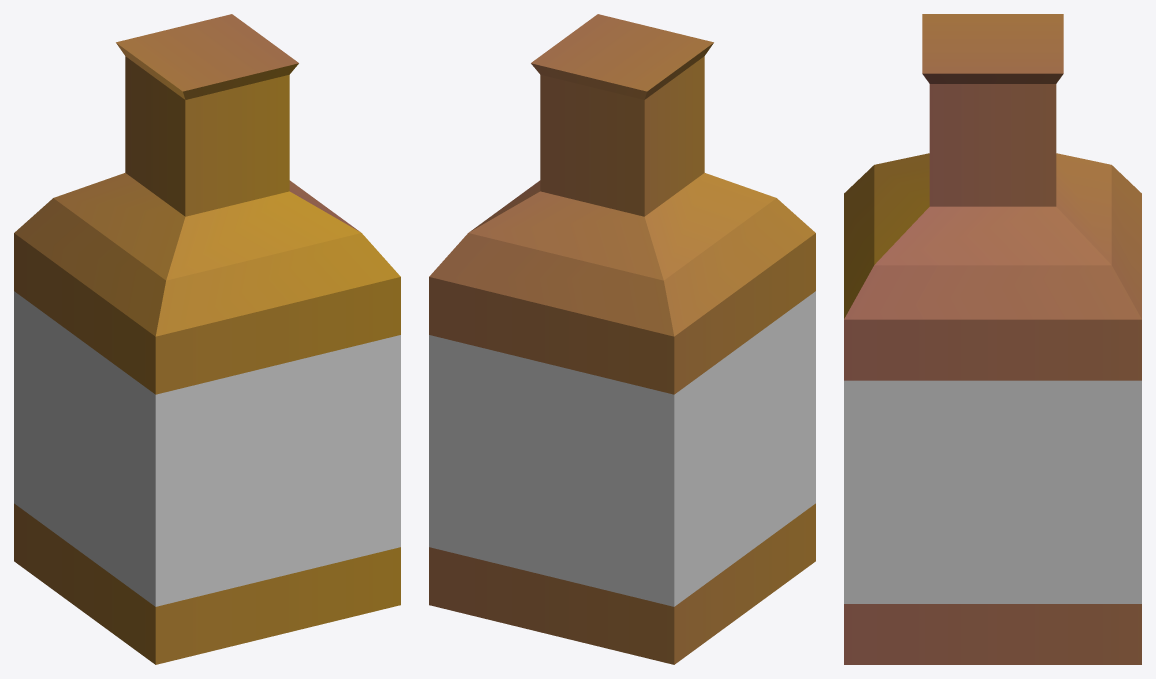
The model's file is B01_bouteille_2_b.fbx.
The picture shows the model from 3 angles, left to right: view 1: azimuth 30°, elevation 25°; view 2: azimuth 150°, elevation 25°; view 3: azimuth 270°, elevation 25°; orthographic projection. The views are drawn at different scales.
Visible parts, largest first — view 1: B01_bouteille_2_b; view 2: B01_bouteille_2_b; view 3: B01_bouteille_2_b.
Part boxes in pixels (x1,y1,x2,y2): B01_bouteille_2_b: (14,14,400,664); B01_bouteille_2_b: (429,14,815,664); B01_bouteille_2_b: (844,14,1141,664).
Size of the model in its own units: 10.81 by 22.35 by 10.81.
